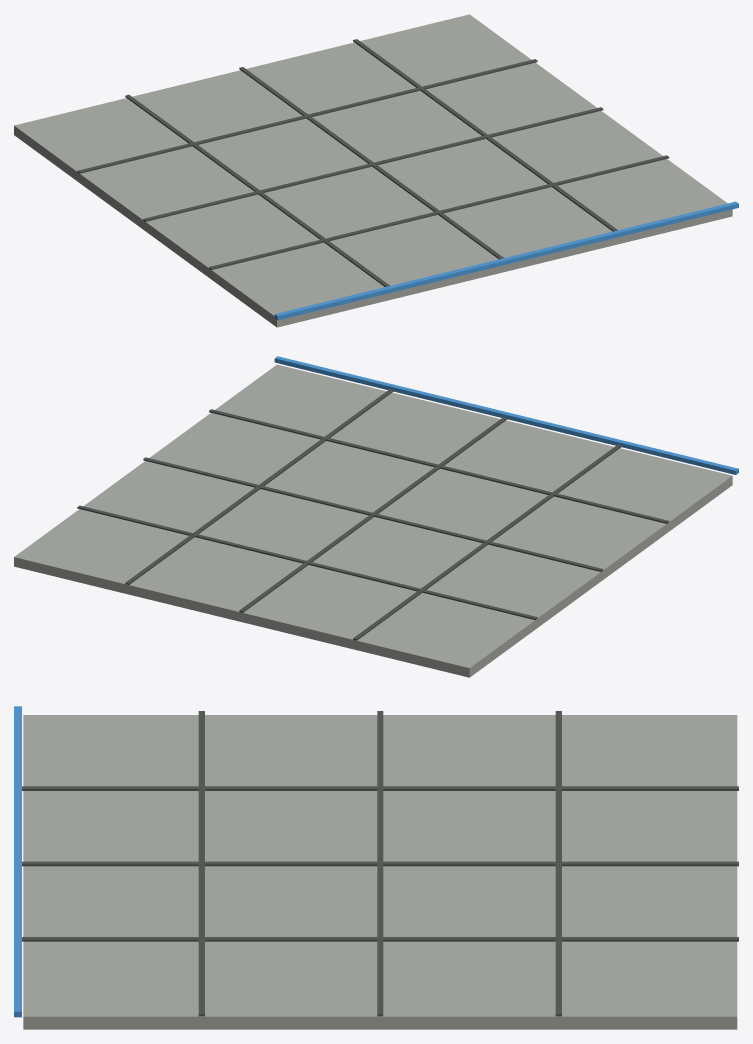
Rendered from map_floor_tile_01.glb.
3 renders of one model, top to bottom at view 1: azimuth 30°, elevation 25°; view 2: azimuth 150°, elevation 25°; view 3: azimuth 270°, elevation 25°, orthographic. The views are drawn at different scales.
Parts seen in each view (by area): view 1: geo_floor_slab, geo_floor_front_edge, geo_floor_groove_y_+1.0, geo_floor_groove_y_-1.0, geo_floor_groove_y_+0.0, geo_floor_groove_x_+0.0, geo_floor_groove_x_-1.0, geo_floor_groove_x_+1.0; view 2: geo_floor_slab, geo_floor_front_edge, geo_floor_groove_y_+1.0, geo_floor_groove_y_+0.0, geo_floor_groove_y_-1.0, geo_floor_groove_x_+1.0, geo_floor_groove_x_+0.0, geo_floor_groove_x_-1.0; view 3: geo_floor_slab, geo_floor_groove_x_+0.0, geo_floor_groove_x_+1.0, geo_floor_groove_x_-1.0, geo_floor_front_edge, geo_floor_groove_y_+0.0, geo_floor_groove_y_+1.0, geo_floor_groove_y_-1.0.
Part boxes in pixels (x1,y1,x2,y2): geo_floor_slab: (14, 14, 732, 327); geo_floor_front_edge: (274, 201, 738, 320); geo_floor_groove_y_+1.0: (77, 59, 537, 173); geo_floor_groove_y_-1.0: (209, 155, 669, 269); geo_floor_groove_y_+0.0: (143, 107, 603, 221); geo_floor_groove_x_+0.0: (239, 67, 503, 259); geo_floor_groove_x_-1.0: (125, 94, 389, 286); geo_floor_groove_x_+1.0: (353, 39, 617, 231); geo_floor_slab: (14, 364, 732, 677); geo_floor_front_edge: (274, 356, 738, 474); geo_floor_groove_y_+1.0: (77, 505, 537, 620); geo_floor_groove_y_+0.0: (143, 457, 603, 571); geo_floor_groove_y_-1.0: (209, 409, 669, 523); geo_floor_groove_x_+1.0: (125, 389, 393, 584); geo_floor_groove_x_+0.0: (239, 417, 507, 612); geo_floor_groove_x_-1.0: (353, 445, 621, 640); geo_floor_slab: (23, 715, 737, 1029); geo_floor_groove_x_+0.0: (22, 861, 738, 866); geo_floor_groove_x_+1.0: (22, 937, 738, 941); geo_floor_groove_x_-1.0: (22, 786, 738, 790); geo_floor_front_edge: (14, 706, 21, 1017); geo_floor_groove_y_+0.0: (377, 711, 383, 1016); geo_floor_groove_y_+1.0: (555, 711, 561, 1016); geo_floor_groove_y_-1.0: (198, 711, 204, 1016).
Bounding box in the file's own units: 4.05 × 0.1225 × 4.06.
